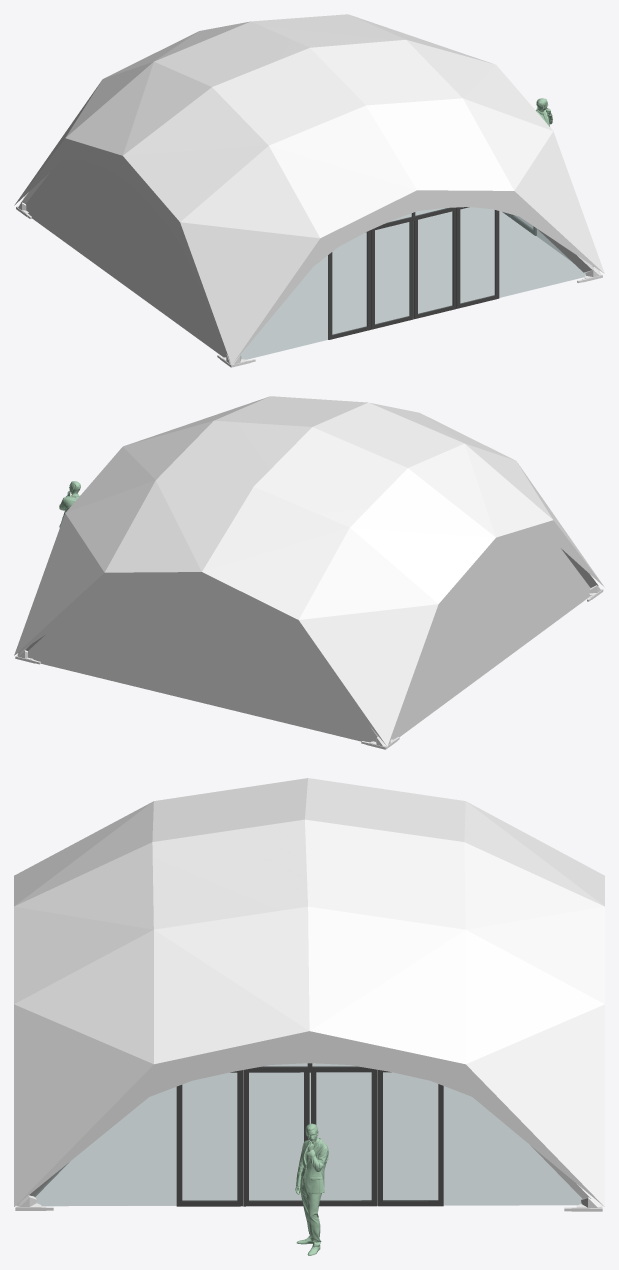
The model's file is eco64.glb.
3 renders of one model, top to bottom at view 1: azimuth 30°, elevation 25°; view 2: azimuth 150°, elevation 25°; view 3: azimuth 270°, elevation 25°, orthographic. The views are drawn at different scales.
Visible parts, largest first — view 1: tent, windows-2, sidewall-1, logo-area-3, frame-2, connections; view 2: tent, sidewall-2, sidewall-1, logo-area-4, logo-area-1, connections; view 3: tent, windows-1, logo-area-1, frame-1, human, logo-area-2, connections.
Part boxes in pixels (box(x1,y1,x2,y2)): tent: box(14, 14, 604, 362); windows-2: box(240, 207, 585, 359); sidewall-1: box(26, 160, 226, 357); logo-area-3: box(180, 222, 319, 364); frame-2: box(328, 207, 499, 339); connections: box(16, 202, 602, 367); tent: box(14, 396, 603, 745); sidewall-2: box(27, 588, 376, 742); sidewall-1: box(390, 542, 590, 739); logo-area-4: box(299, 604, 438, 746); logo-area-1: box(14, 513, 104, 655); connections: box(15, 585, 603, 749); tent: box(14, 778, 604, 1206); windows-1: box(34, 1063, 581, 1206); logo-area-1: box(466, 1004, 604, 1206); frame-1: box(176, 1063, 443, 1206); human: box(295, 1123, 328, 1255); logo-area-2: box(14, 1004, 153, 1067); connections: box(15, 1195, 602, 1211).
Size of the model in its own units: 95.85 by 41.4 by 82.32.
